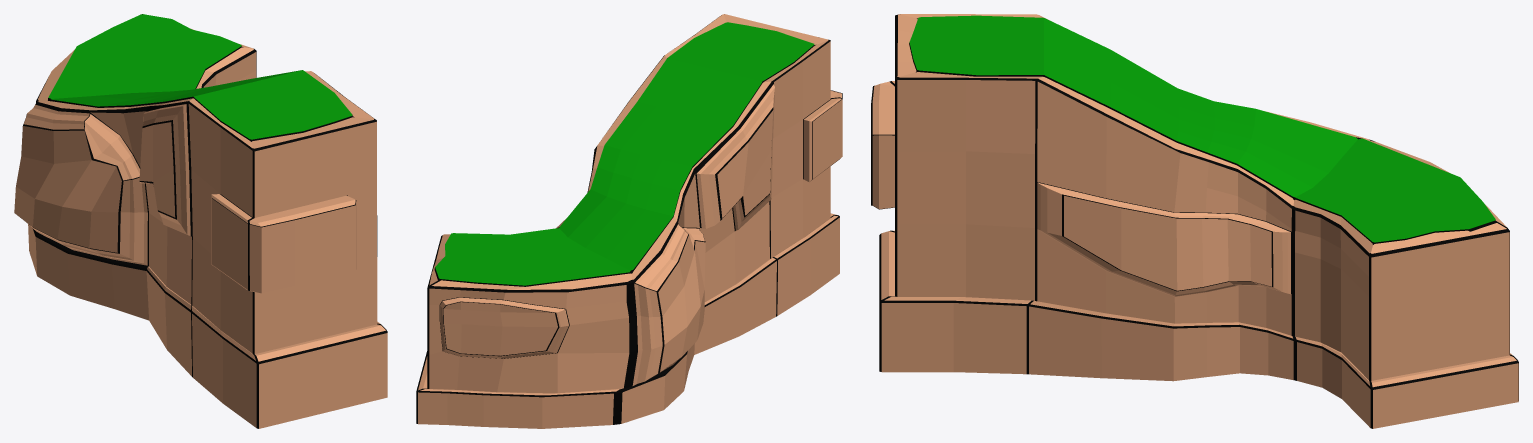
File: CardboardPlatform20.fbx
The picture shows the model from 3 angles, left to right: view 1: azimuth 30°, elevation 25°; view 2: azimuth 150°, elevation 25°; view 3: azimuth 270°, elevation 25°; orthographic projection. The views are drawn at different scales.
Visible parts, largest first — view 1: Cube.038; view 2: Cube.038; view 3: Cube.038.
Part boxes in pixels (<box>): Cube.038: <box>14,14,387,428</box>; Cube.038: <box>416,14,842,428</box>; Cube.038: <box>871,14,1518,428</box>.
Bounding box in the file's own units: 2388 × 2368 × 4754.
